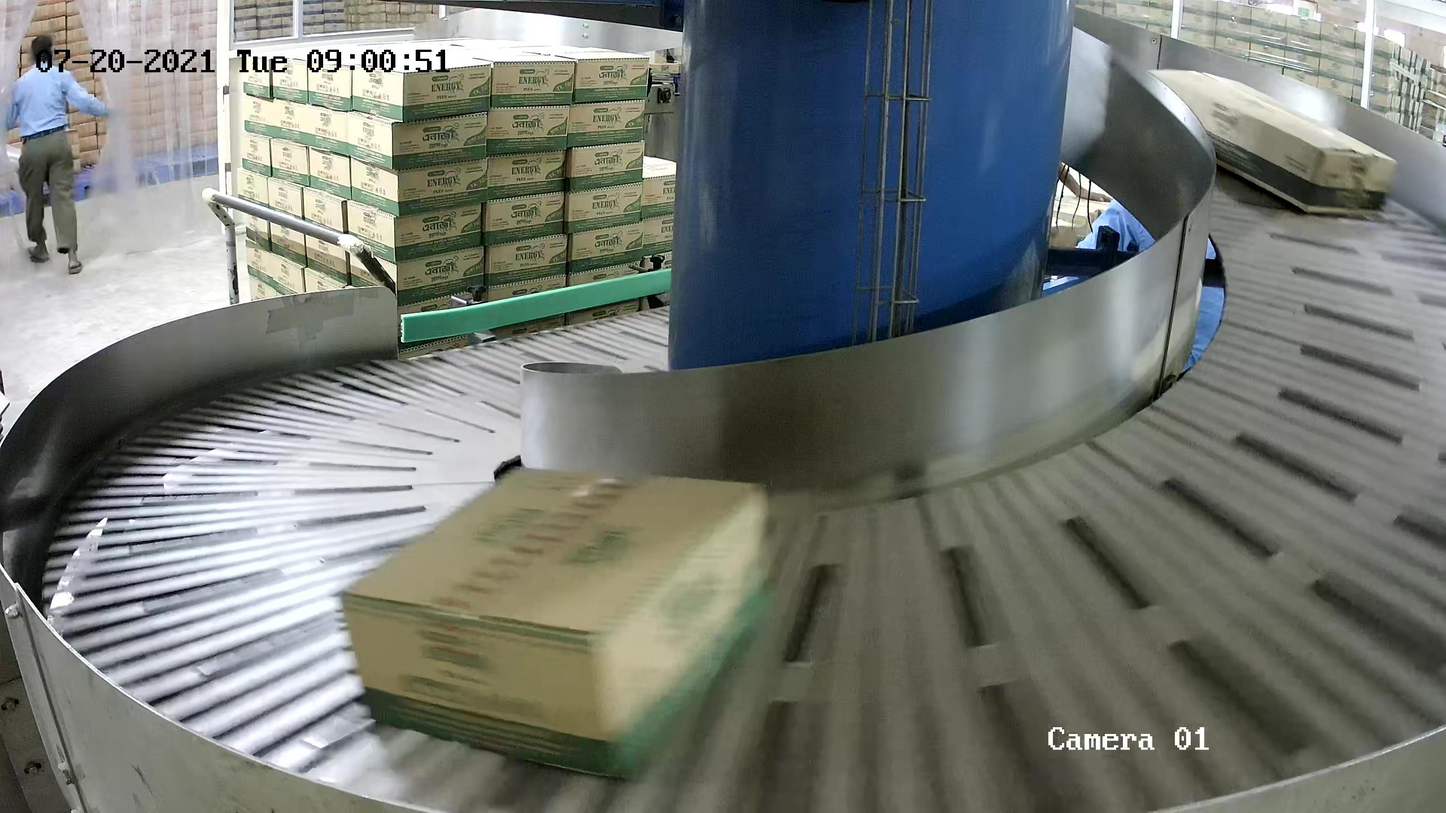Box: (340, 464, 774, 783), (1144, 69, 1397, 218)
